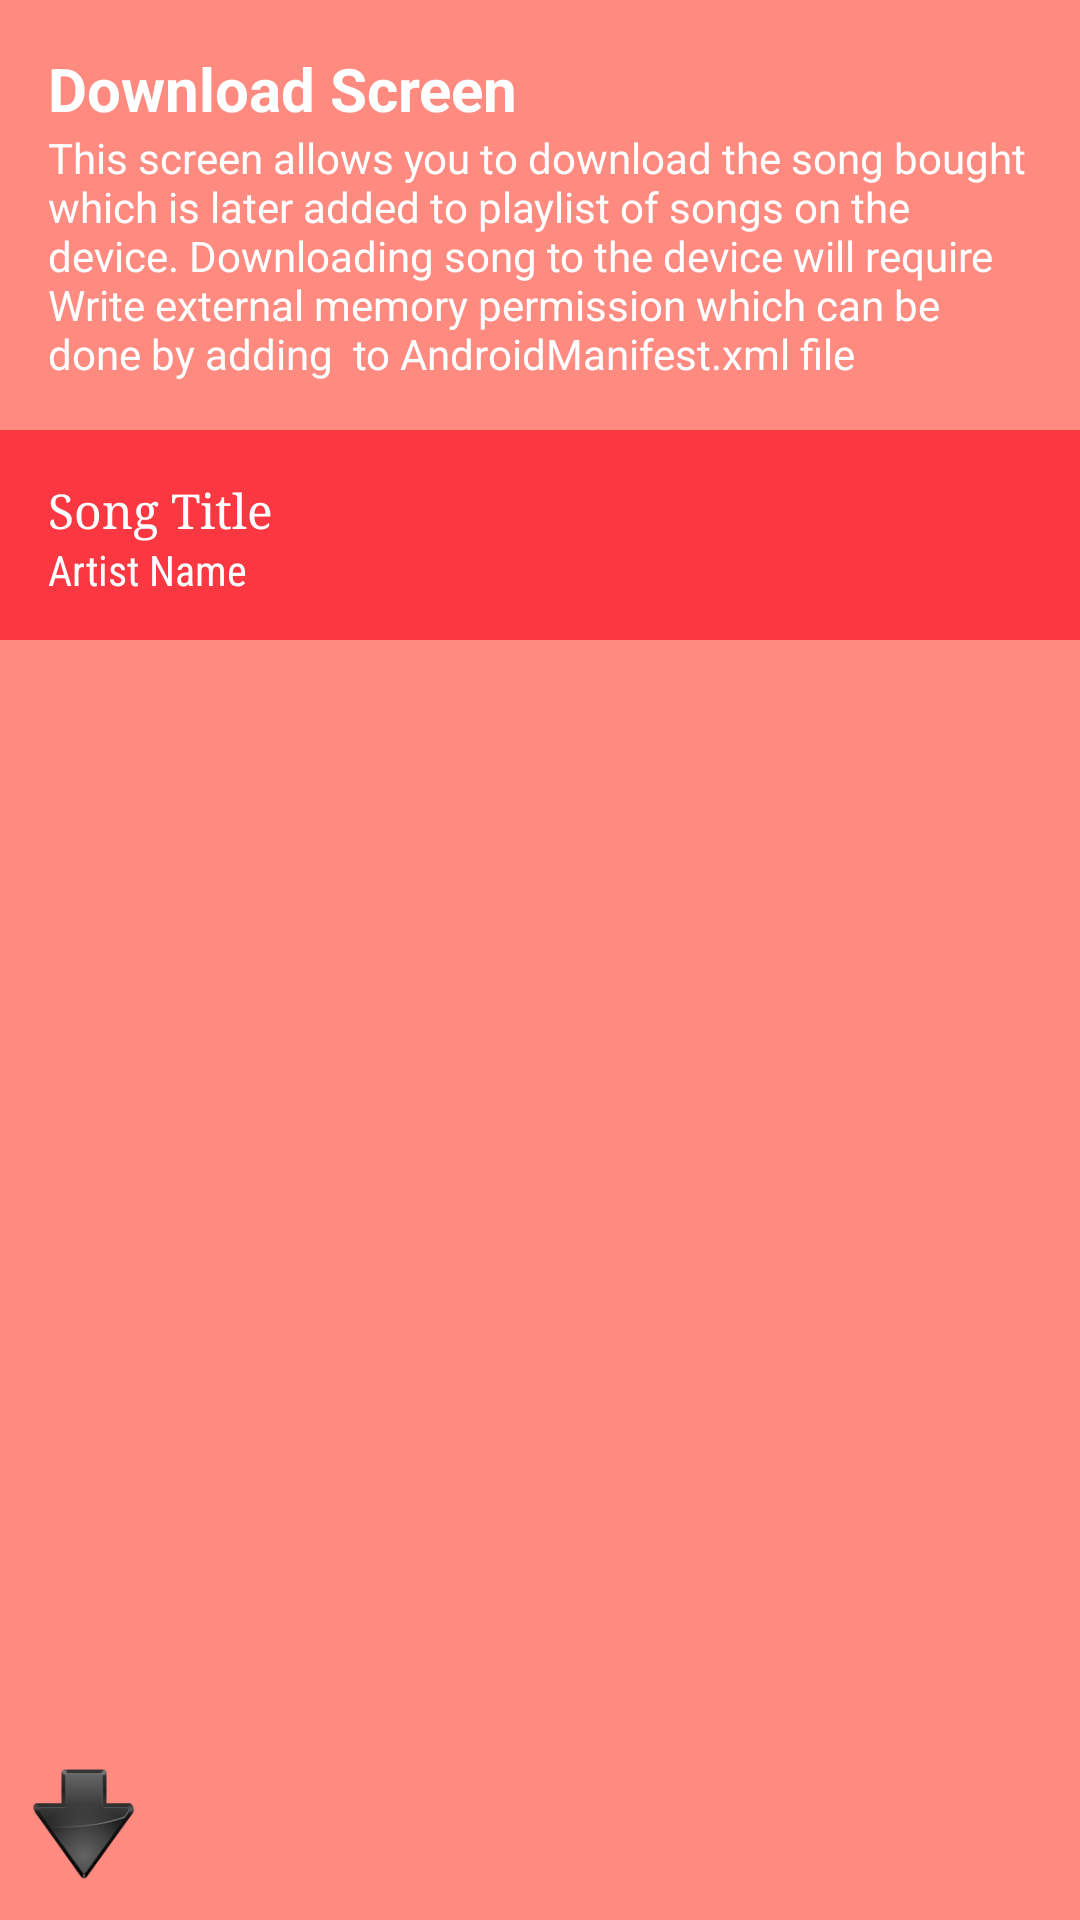

Where icons sit on this 1080w x 1920h app screen, as (x1, y1, x2, y2):
download: (33, 1769, 134, 1879)
